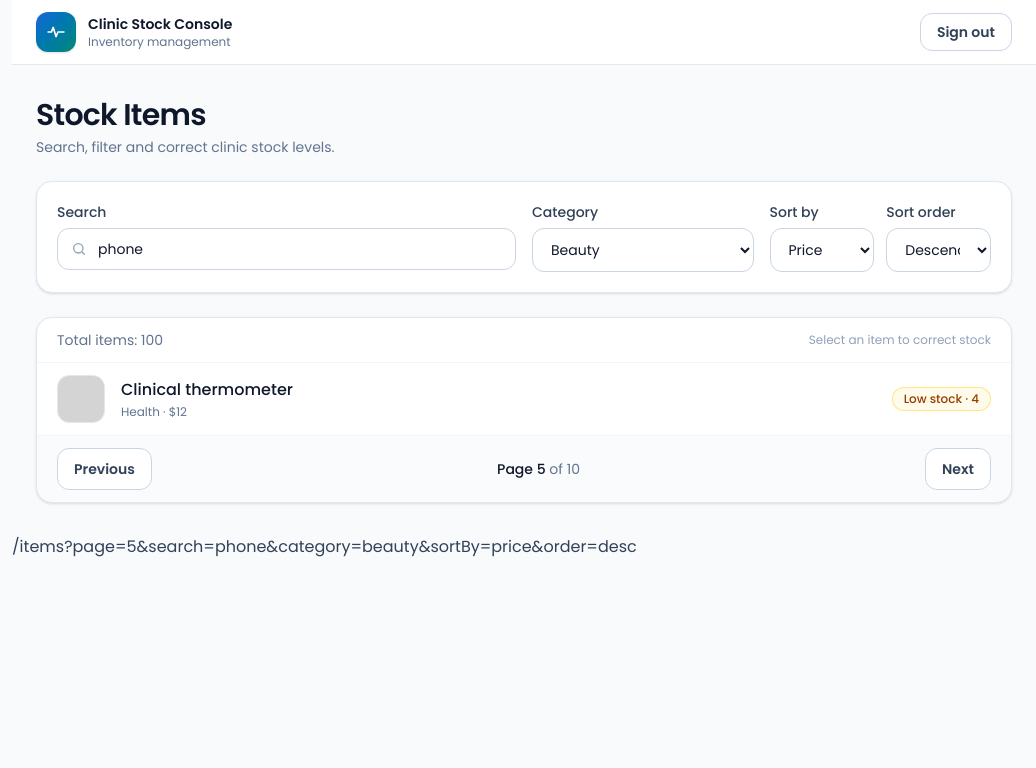
Scenario: ItemsPage states and URL state › preserves URL filters and resets page when a filter changes
Expected: the text "Page 5" is shown, [497,459,546,479]
Select "groceries" in the dropdown labelled "Category" at [643, 250], box [532,228,754,272]
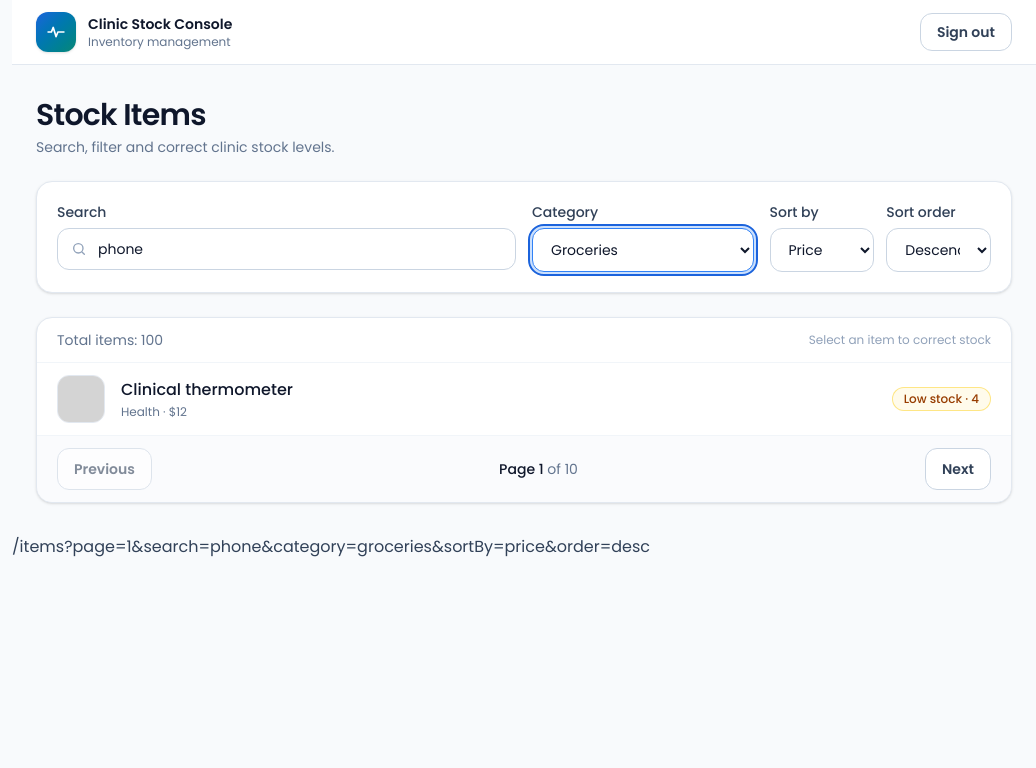
Expected: the text with test id "location" shows "search=phone", [12,535,650,558]
Expected: the text with test id "location" shows "page=1", [12,535,650,558]
Expected: the text with test id "location" shows "category=groceries", [12,535,650,558]
